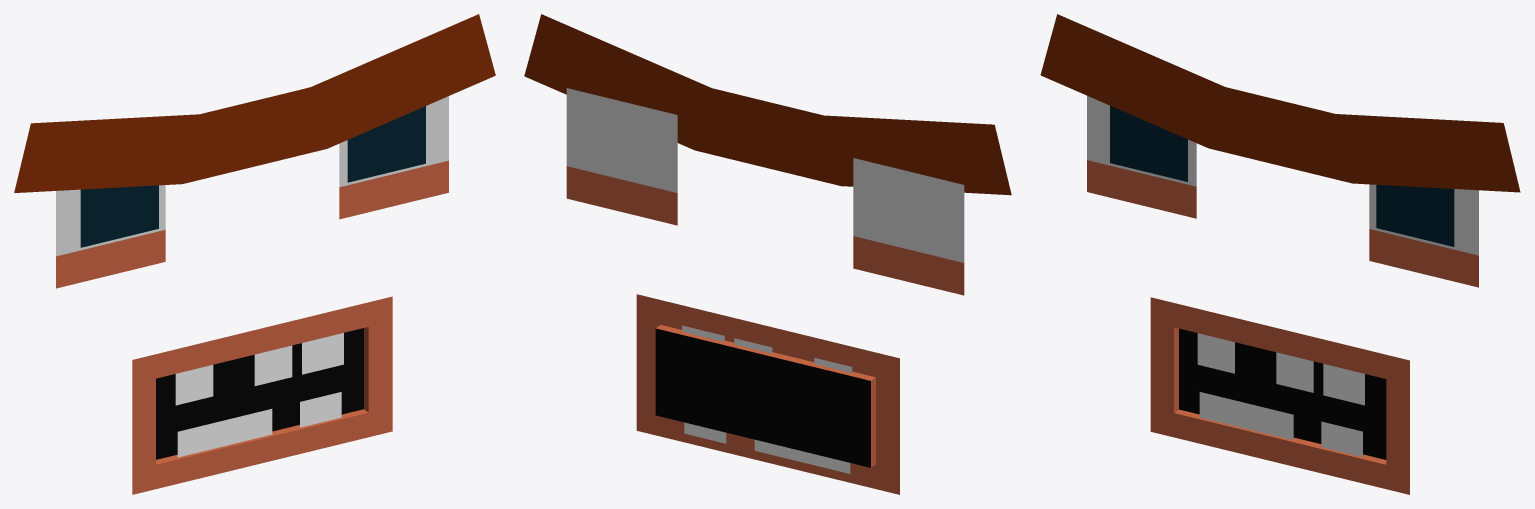
The model's file is Face Male 07.FBX.
3 views of the same model, side by side, from view 1: azimuth 30°, elevation 25°; view 2: azimuth 150°, elevation 25°; view 3: azimuth 330°, elevation 25° (orthographic).
Visible parts, largest first — view 1: Face Male 07; view 2: Face Male 07; view 3: Face Male 07.
Boxes of the visible parts, left/top/right/bottom form: Face Male 07: left=14, top=14, right=495, bottom=494; Face Male 07: left=524, top=14, right=1011, bottom=494; Face Male 07: left=1040, top=14, right=1520, bottom=494.
Bounding box in the file's own units: 43.87 × 34.16 × 1.01.
Materials: 1 (1 with a texture image).
